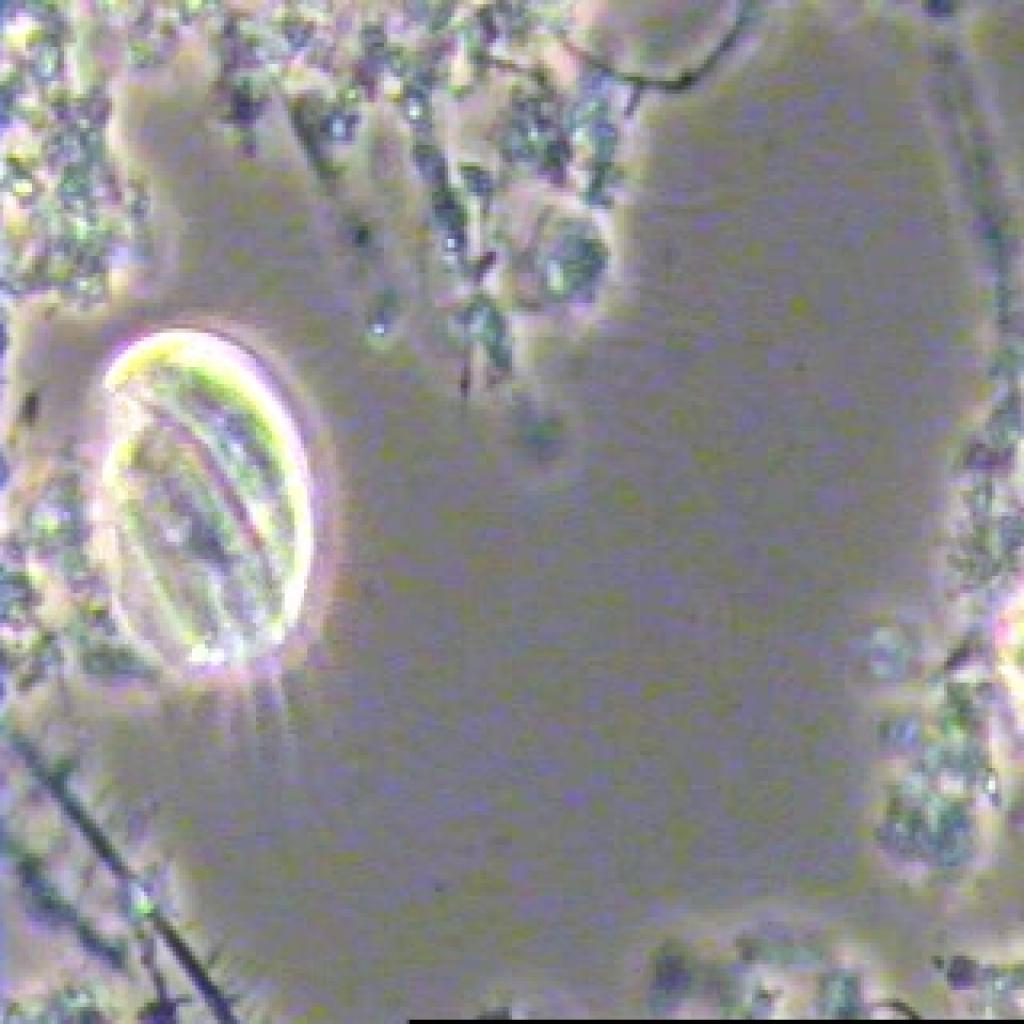Aspidisca: (78, 310, 386, 788)
